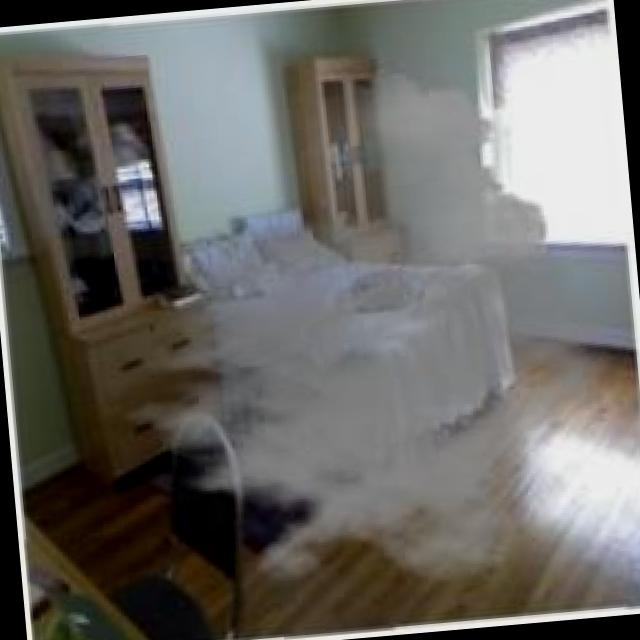smoke: (184, 231, 490, 564)
